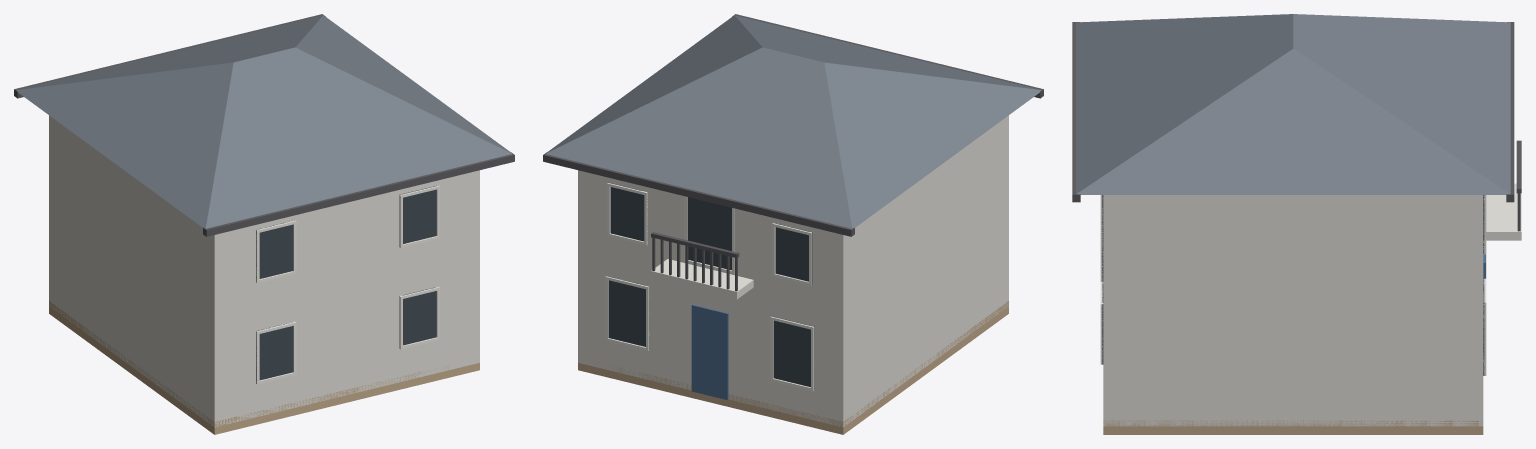
The model's file is ca_villa.glb.
3 views of the same model, side by side, from view 1: azimuth 30°, elevation 25°; view 2: azimuth 150°, elevation 25°; view 3: azimuth 270°, elevation 25° (orthographic). The views are drawn at different scales.
Parts seen in each view (by area): view 1: ca_villa; view 2: ca_villa; view 3: ca_villa.
Part boxes in pixels (left/top/right/bottom): ca_villa: left=14, top=14, right=514, bottom=434; ca_villa: left=543, top=14, right=1043, bottom=434; ca_villa: left=1072, top=14, right=1521, bottom=434.
Size of the model in its own units: 8.6 by 7.65 by 9.45.
